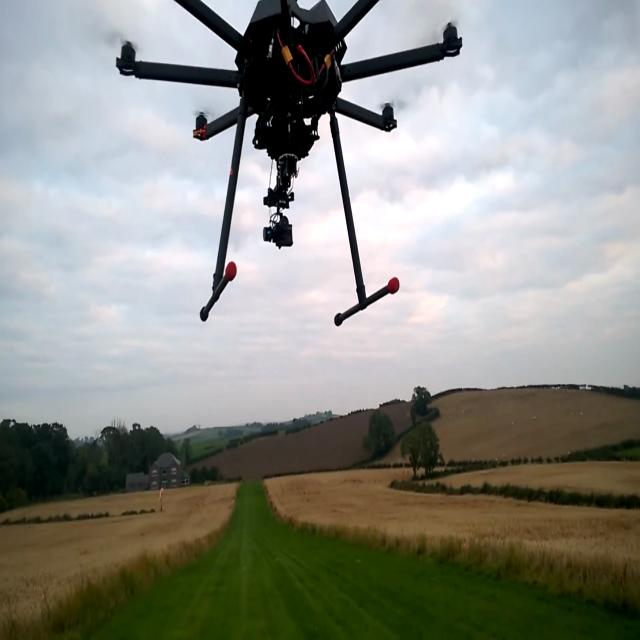drone: (106, 0, 466, 331)
